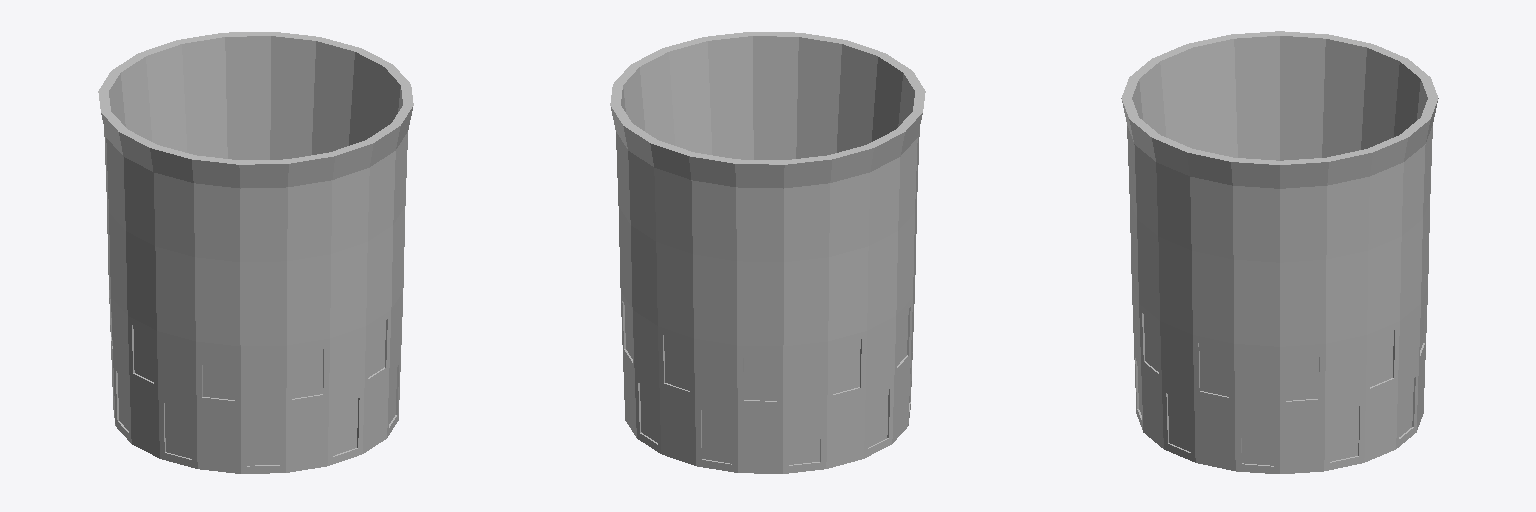
Rendered from glass.obj.
3 views of the same model, side by side, from view 1: azimuth 30°, elevation 25°; view 2: azimuth 150°, elevation 25°; view 3: azimuth 270°, elevation 25° (orthographic).
Visible parts, largest first — view 1: pCylinder1; view 2: pCylinder1; view 3: pCylinder1.
Part boxes in pixels (x1,y1,x2,y2): pCylinder1: (98, 32, 413, 473); pCylinder1: (610, 32, 925, 473); pCylinder1: (1121, 31, 1438, 473).
Size of the model in its own units: 2 by 2.2 by 2.